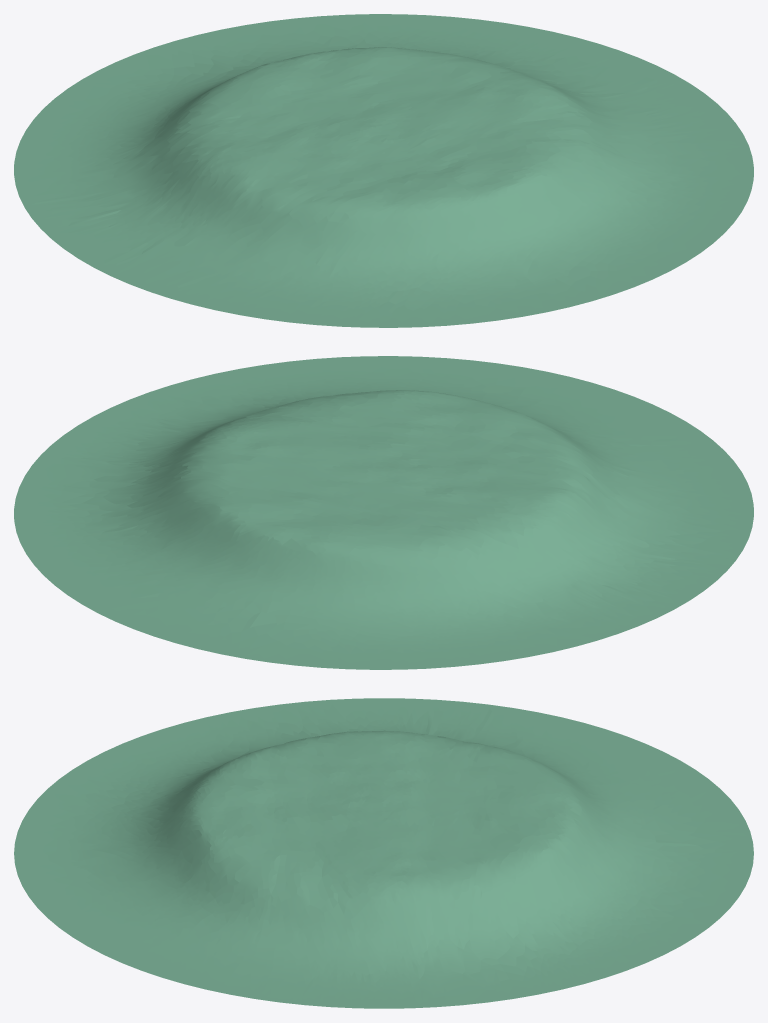
File: island_circular_B_A.fbx
3 views of the same model, one above another, from view 1: azimuth 30°, elevation 25°; view 2: azimuth 150°, elevation 25°; view 3: azimuth 270°, elevation 25° (orthographic).
Parts seen in each view (by area): view 1: island_circular_B_A; view 2: island_circular_B_A; view 3: island_circular_B_A.
Boxes of the visible parts, x1,y1,x2,y2 form: island_circular_B_A: (14, 14, 753, 327); island_circular_B_A: (14, 356, 753, 669); island_circular_B_A: (14, 698, 753, 1008).
Size of the model in its own units: 29114 by 2036 by 29314.
